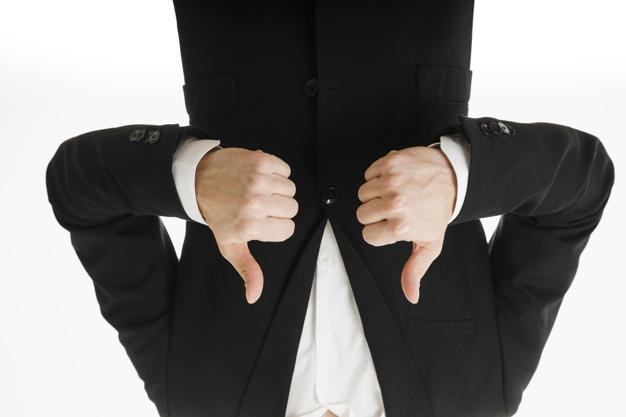thumbsdown: (355, 148, 431, 305), (223, 152, 299, 306)
